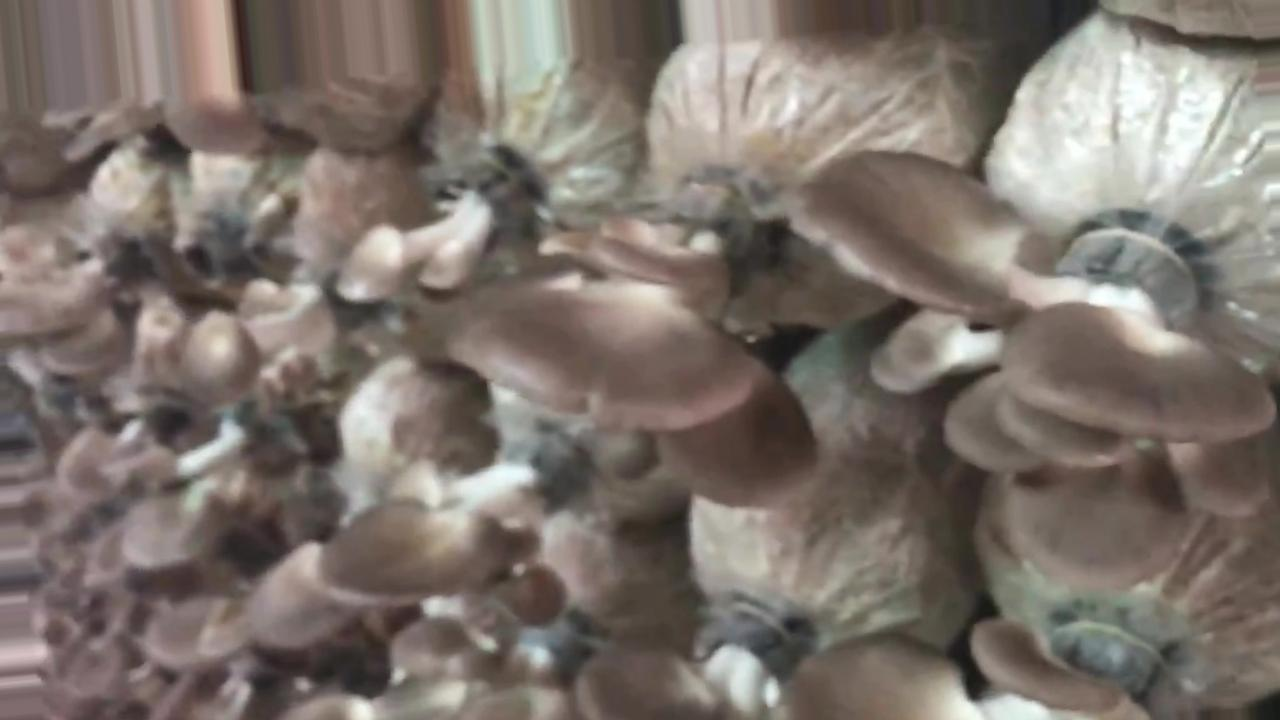nam: (784, 143, 1280, 482), (445, 164, 825, 516), (310, 500, 513, 613)
